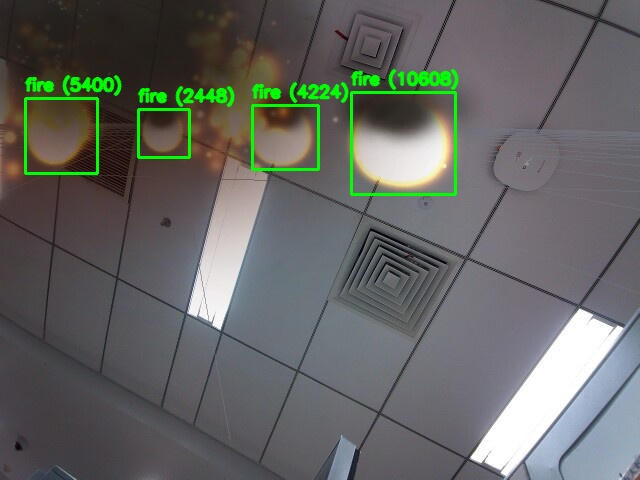fire: (351, 92, 455, 194), (25, 98, 97, 173), (252, 105, 318, 169), (138, 109, 189, 157)
